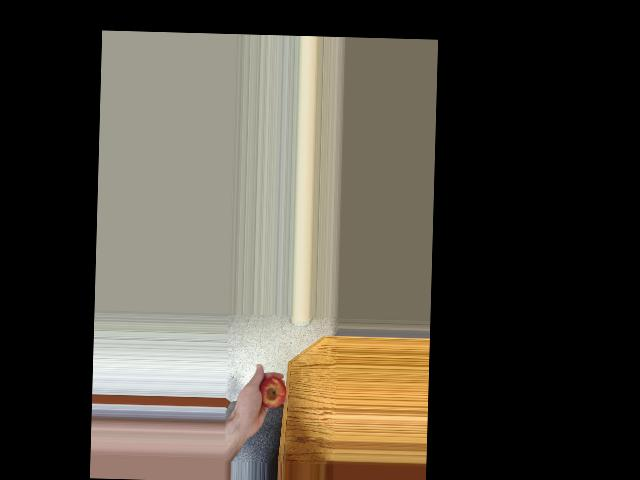apple: (256, 375, 287, 411)
